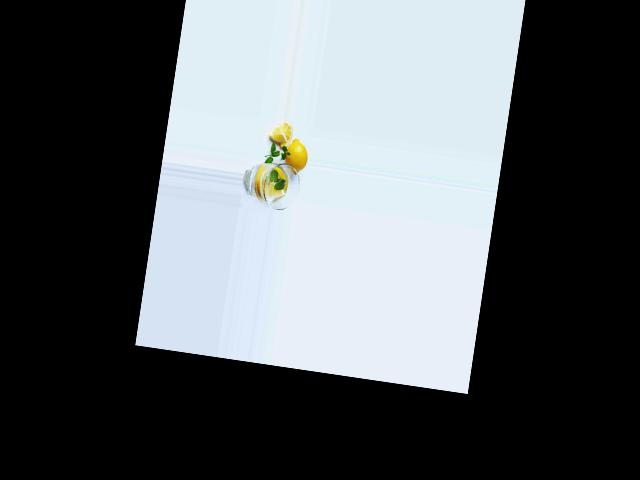lemon: (279, 137, 311, 178)
